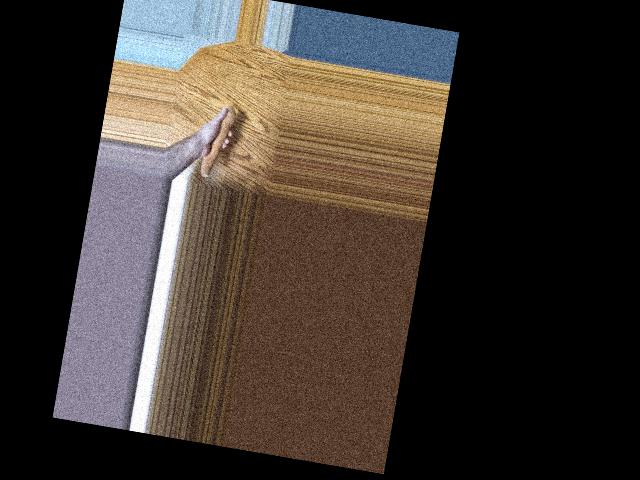sweet_potato: (198, 102, 237, 181)
